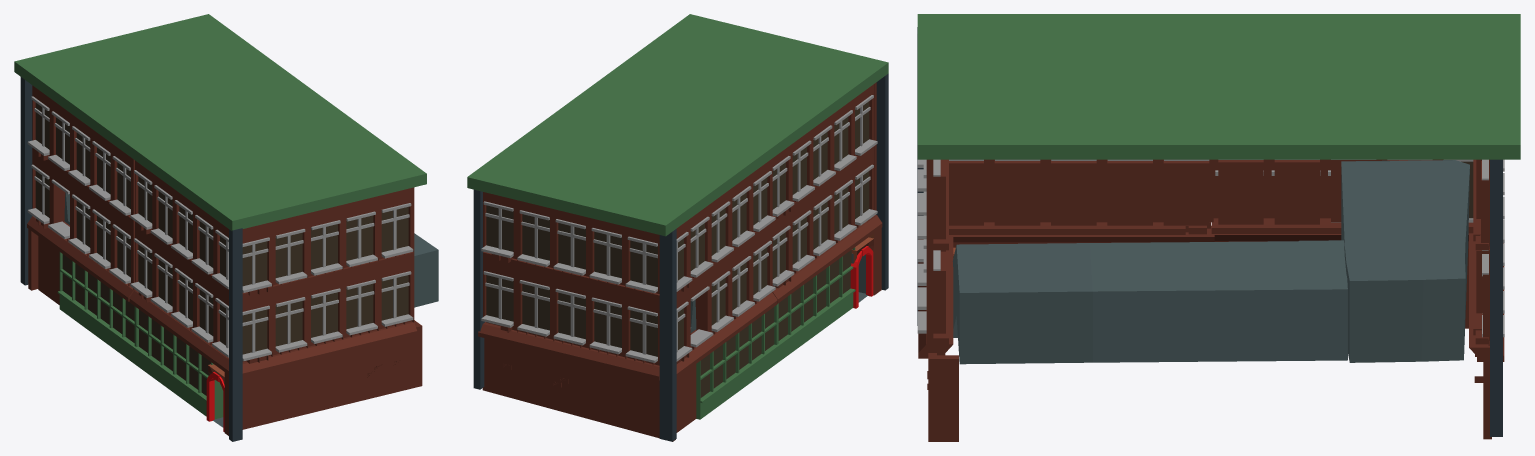
File: house.fbx
The picture shows the model from 3 angles, left to right: view 1: azimuth 30°, elevation 25°; view 2: azimuth 150°, elevation 25°; view 3: azimuth 270°, elevation 25°; orthographic projection. The views are drawn at different scales.
Visible parts, largest first — view 1: detail.001, Cube.071; view 2: detail.001, Cube.071; view 3: detail.001, Cube.071, Cube.073.
Part boxes in pixels (x1,y1,x2,y2): detail.001: [14, 14, 426, 441]; Cube.071: [206, 233, 438, 431]; detail.001: [467, 14, 888, 441]; Cube.071: [850, 246, 873, 308]; detail.001: [917, 14, 1520, 441]; Cube.071: [952, 240, 1347, 364]; Cube.073: [1341, 160, 1469, 362].
Bounding box in the file's own units: 2509 × 2392 × 4284.
